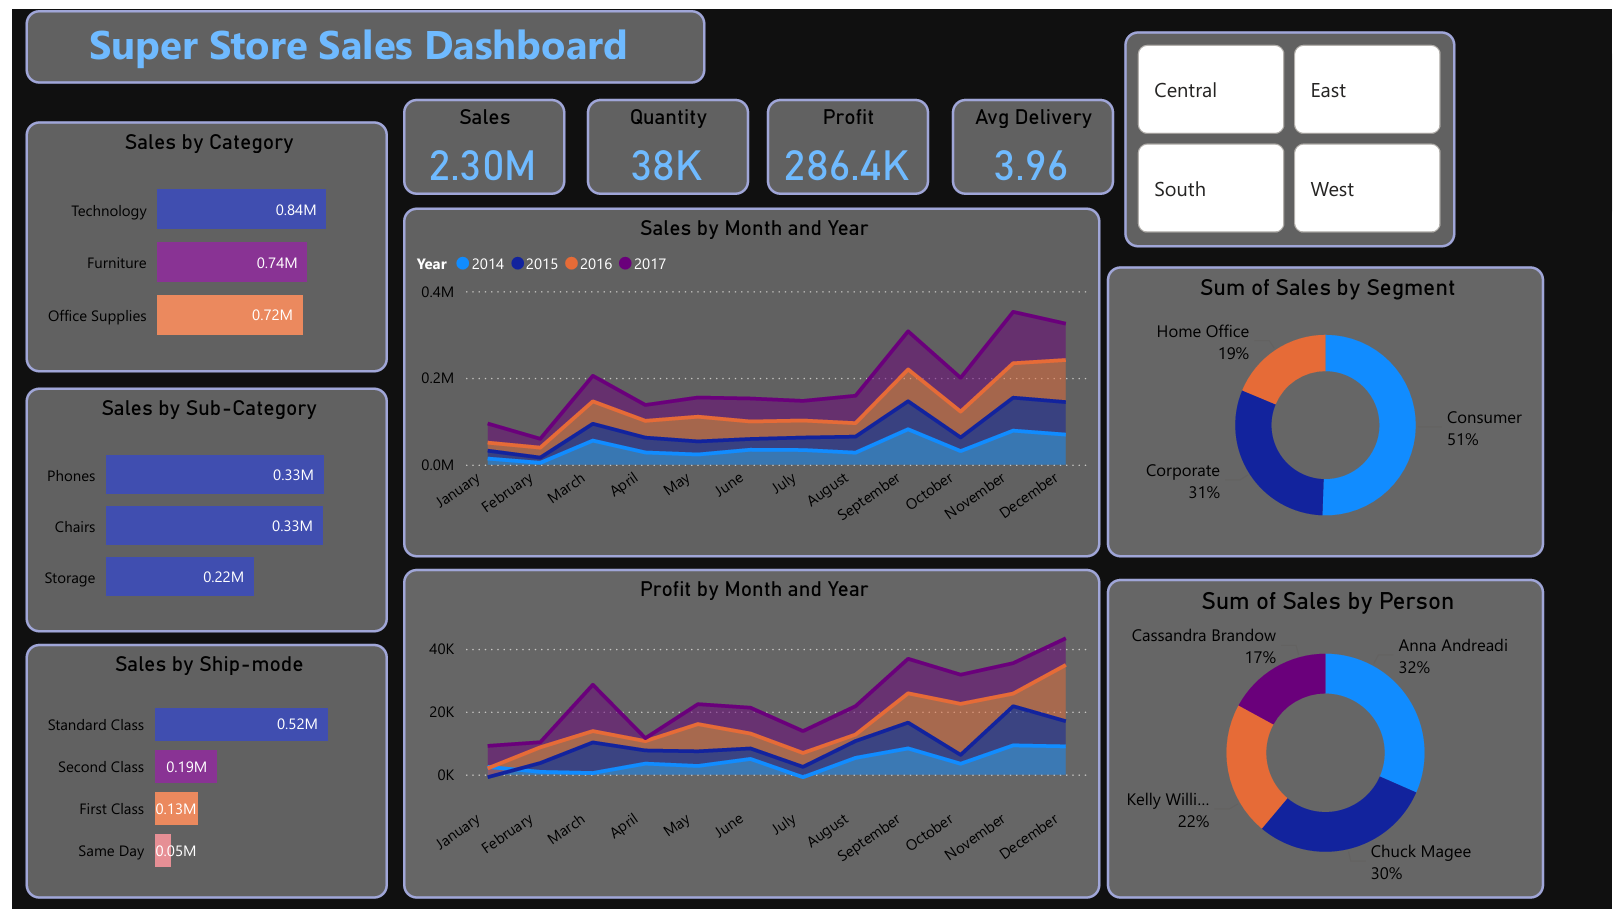

What the dashboard file says about the page in this screenshot:
{"tool":"powerbi","page":{"name":"DashBoard","canvas":[1280,720],"ordinal":0},"visuals":[{"type":"clusteredBarChart","title":"Sales by Category","fields":{"Category":["Orders.Category"],"Y":["Sum(Orders.Sales)"]},"box":[10,88.9,290,201.1],"z":0},{"type":"clusteredBarChart","title":"Sales by Sub-Category","fields":{"Category":["Orders.Sub-Category"],"Y":["Sum(Orders.Sales)"]},"box":[10,302.2,290,195.6],"z":1000},{"type":"clusteredBarChart","title":"Sales by Ship-mode","fields":{"Category":["Orders.Ship Mode"],"Y":["Sum(Orders.Sales)"]},"box":[10,506.7,290,204.4],"z":2000},{"type":"stackedAreaChart","title":"Profit by Month and Year","fields":{"Series":["Orders.Order Date.Variation.Date Hierarchy.Year"],"Category":["Orders.Order Date.Variation.Date Hierarchy.Month"],"Y":["Sum(Orders.Profit)"]},"box":[312.2,446.7,557.8,264.4],"z":3000},{"type":"stackedAreaChart","title":"Sales by Month and Year","fields":{"Y":["Sum(Orders.Sales)"],"Series":["Orders.Order Date.Variation.Date Hierarchy.Year"],"Category":["Orders.Order Date.Variation.Date Hierarchy.Month"]},"box":[312.2,157.8,557.8,280],"z":4000},{"type":"donutChart","fields":{"Category":["Orders.Segment"],"Y":["Sum(Orders.Sales)"]},"box":[875,205,350,232.5],"z":5000},{"type":"donutChart","fields":{"Category":["People.Person"],"Y":["Sum(Orders.Sales)"]},"box":[875,455,350,256.2],"z":6000},{"type":"advancedSlicerVisual","fields":{"Values":["Orders.Region"]},"box":[888.9,16.7,265.6,173.3],"z":7000},{"type":"textbox","box":[10,0,543.8,58.8],"z":8000},{"type":"card","title":"Sales","fields":{"Values":["Sum(Orders.Sales)"]},"box":[312.2,71.1,130,76.7],"z":9000},{"type":"card","title":"Quantity","fields":{"Values":["Sum(Orders.Quantity)"]},"box":[458.9,71.1,130,76.7],"z":10000},{"type":"card","title":"Profit ","fields":{"Values":["Sum(Orders.Profit)"]},"box":[603.3,71.1,130,76.7],"z":11000},{"type":"card","title":"Avg Delivery ","fields":{"Values":["Avg(Orders.AvgDelivery)"]},"box":[751.1,71.1,130,76.7],"z":12000}]}

Visuals, with their boxes in screenshot pixels (x1, y1, x2, y2), scaled from the page's 1280x720 canvas onto the 1618x914 screenshot:
"Sales by Category" clusteredBarChart: box=[13, 113, 379, 368]
"Sales by Sub-Category" clusteredBarChart: box=[13, 384, 379, 632]
"Sales by Ship-mode" clusteredBarChart: box=[13, 643, 379, 903]
"Profit by Month and Year" stackedAreaChart: box=[395, 567, 1100, 903]
"Sales by Month and Year" stackedAreaChart: box=[395, 200, 1100, 556]
donutChart - Orders.Segment x Sum(Orders.Sales): box=[1106, 260, 1548, 555]
donutChart - People.Person x Sum(Orders.Sales): box=[1106, 578, 1548, 903]
advancedSlicerVisual - Orders.Region: box=[1124, 21, 1459, 241]
textbox: box=[13, 0, 700, 75]
"Sales" card: box=[395, 90, 559, 188]
"Quantity" card: box=[580, 90, 744, 188]
"Profit " card: box=[763, 90, 927, 188]
"Avg Delivery " card: box=[949, 90, 1114, 188]
